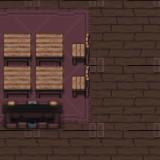Hide: (0, 99, 65, 132)
Obstacle: (33, 31, 68, 65), (33, 64, 67, 99), (0, 31, 34, 65), (0, 65, 34, 99), (67, 65, 96, 100), (67, 31, 95, 65)
